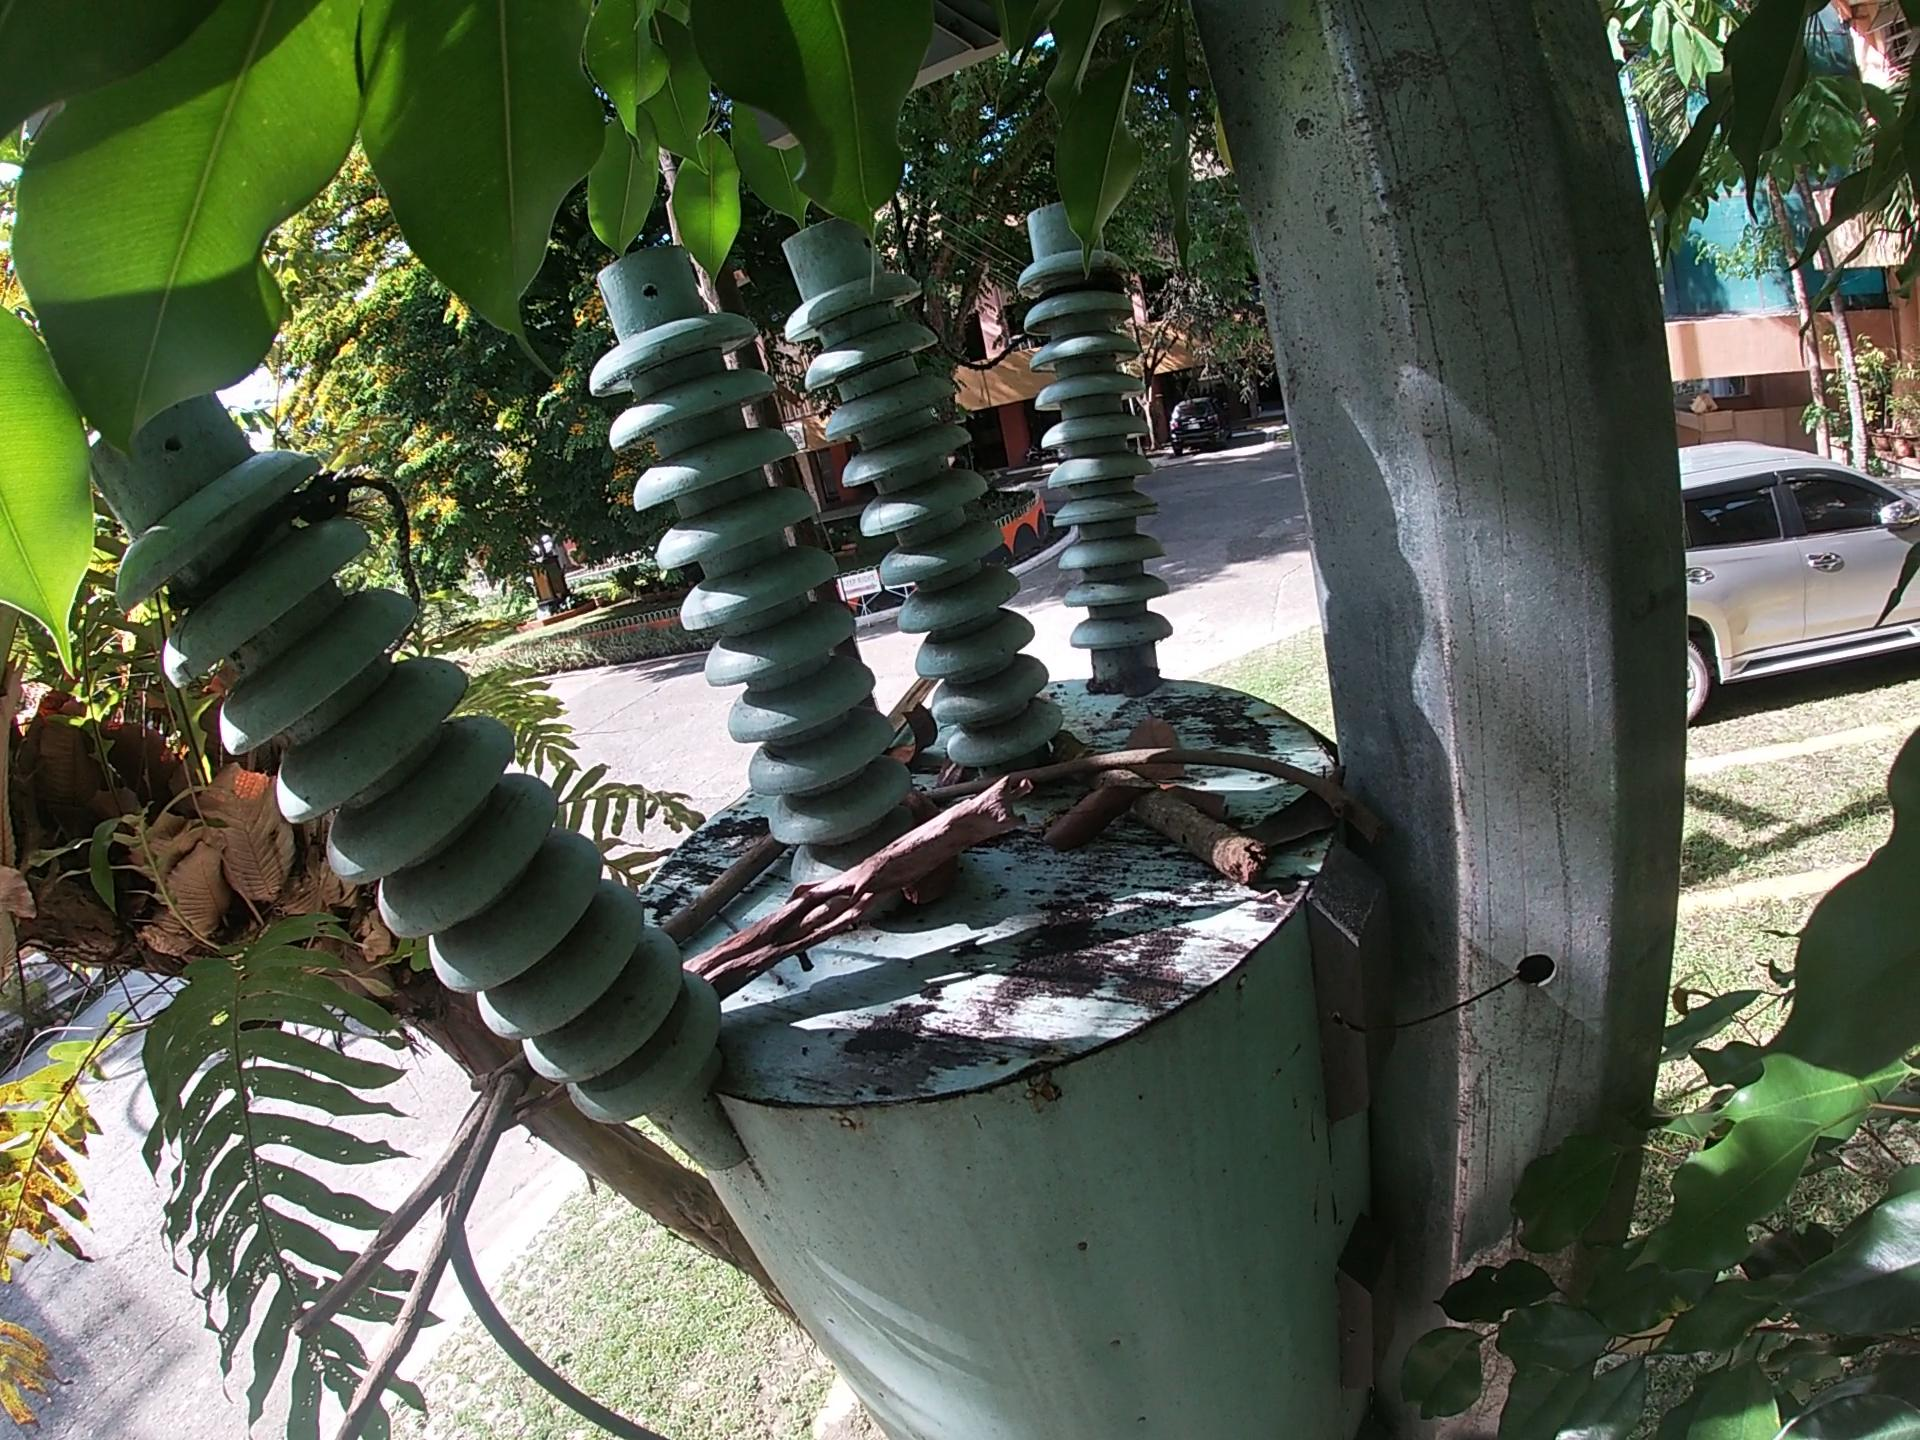leaf: (1027, 784, 1150, 864), (1126, 708, 1203, 793)
mahogany fruit: (900, 705, 940, 753)
tree branch: (277, 1051, 686, 1434), (683, 768, 1037, 974), (909, 750, 1367, 824), (1064, 734, 1267, 877), (656, 832, 788, 930), (884, 661, 951, 731)
